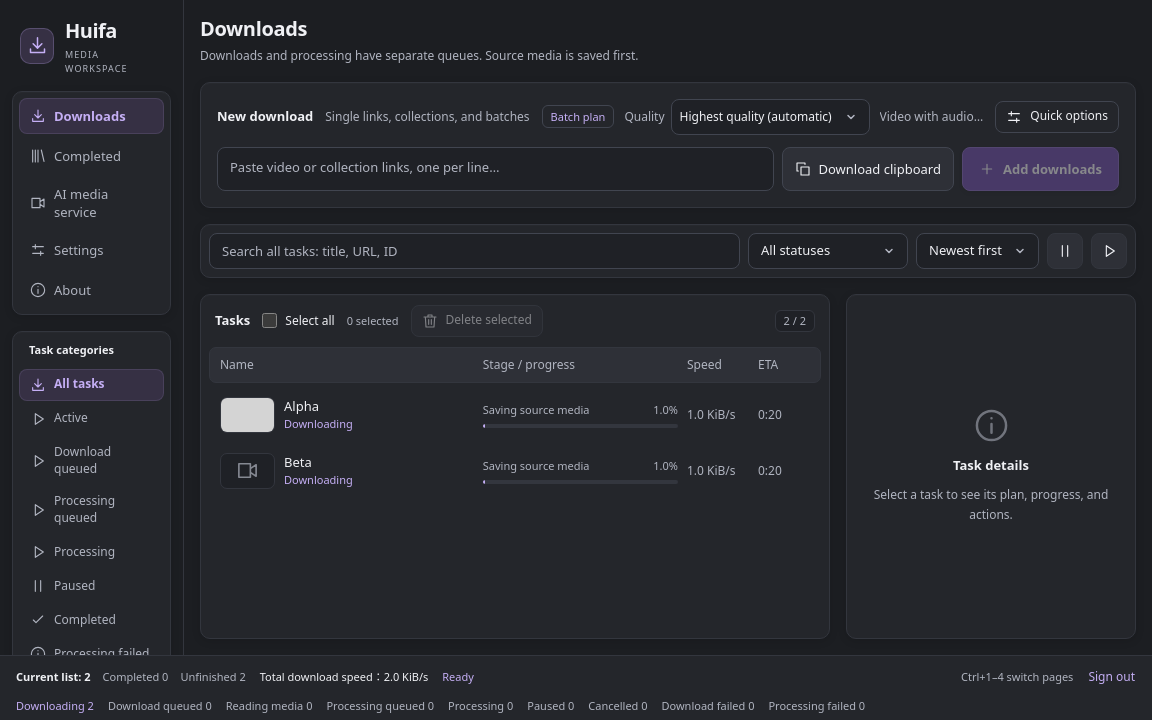
live interface stability › shows the actual resolution in the completed media library
Expected: the list is shown, [220,397,782,489]
Click the 1st button "Completed".
click(92, 156)  # box [19,138,164,174]
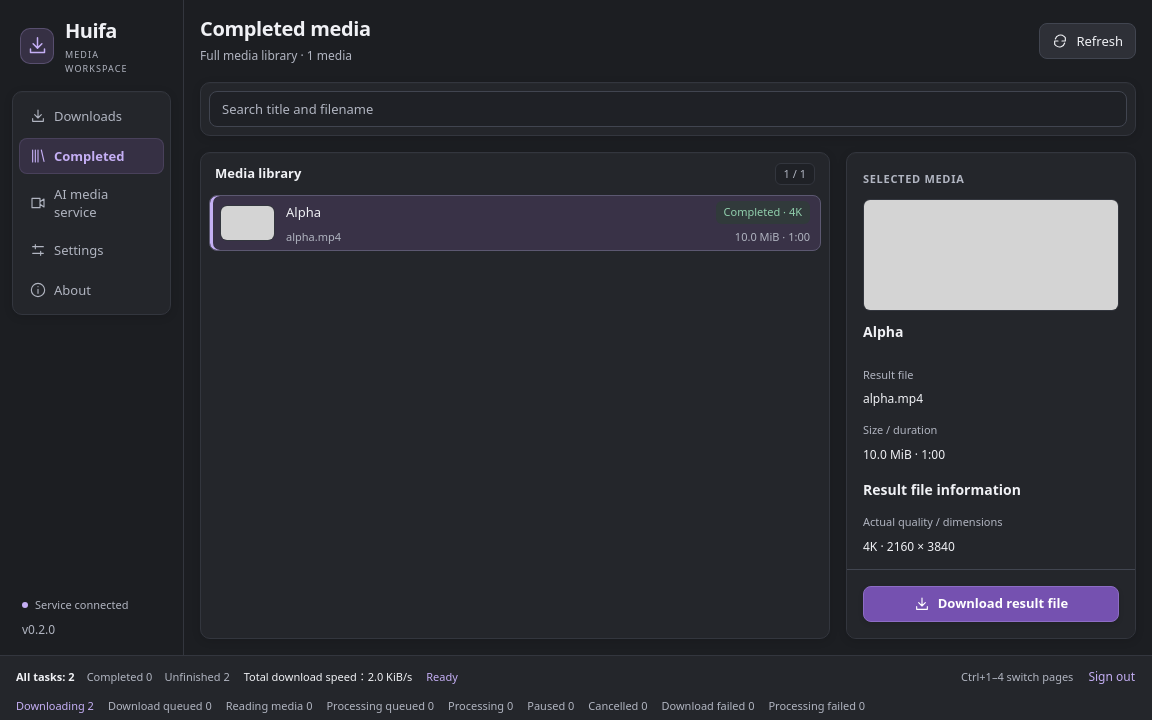
Expected: the text "Completed · 4K" is shown, [716,201,810,224]
Expected: the text "4K · 2160 × 3840" is shown, [863,538,955,555]
